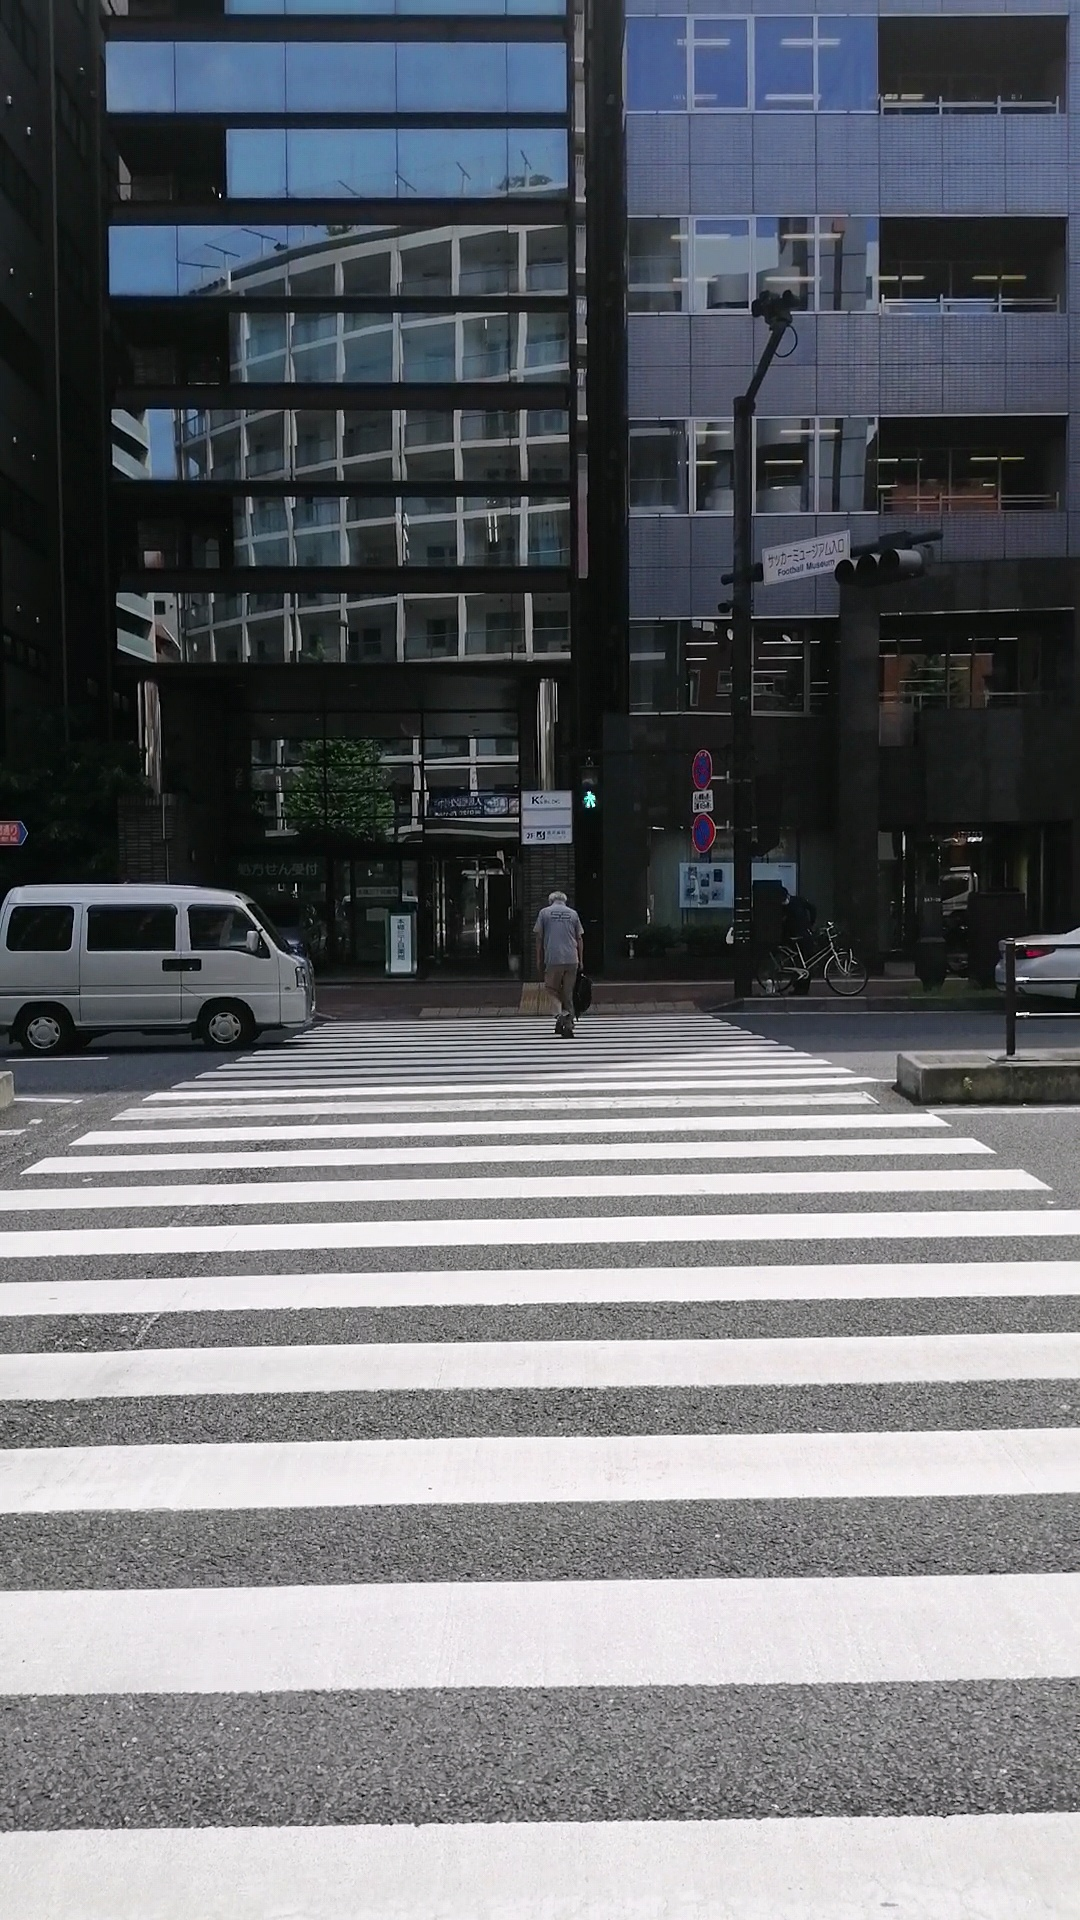green: (574, 764, 604, 814)
